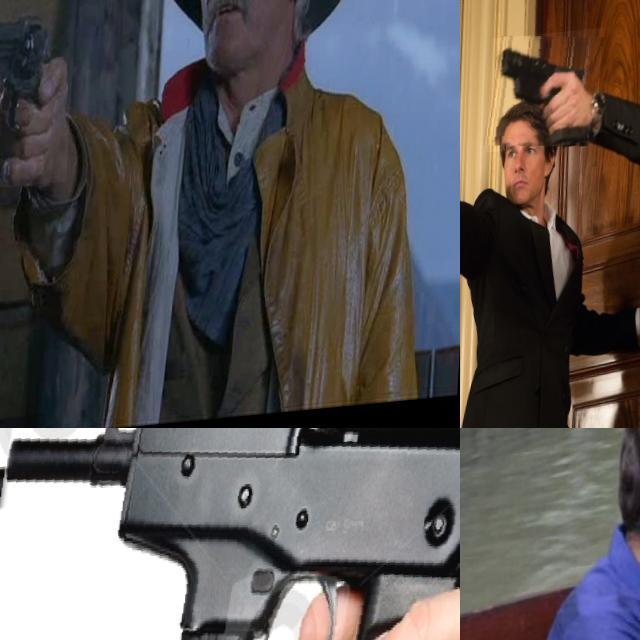gun-knife-thesis - v11 Yolov5 augmented: (0, 428, 460, 640), (0, 0, 80, 196), (488, 36, 604, 158), (460, 112, 503, 225)
